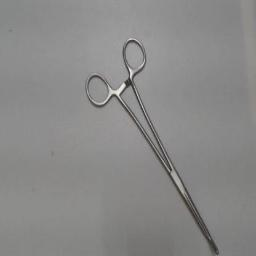Lahey Forceps: (82, 31, 226, 255)
